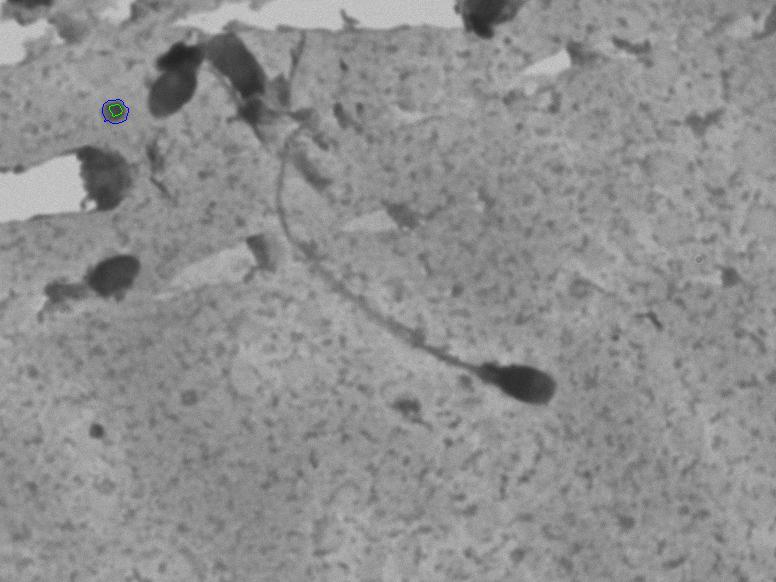Abnormal: (234, 92, 586, 446)
